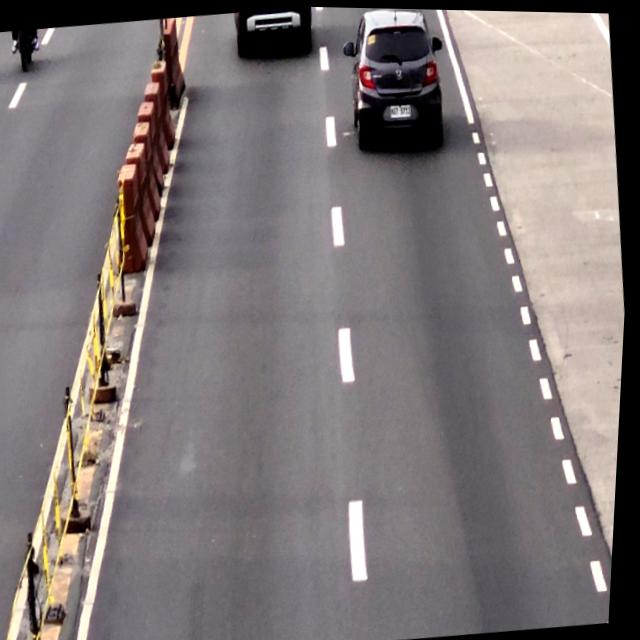Car: (341, 6, 445, 151)
License-Plate: (389, 99, 413, 119)
